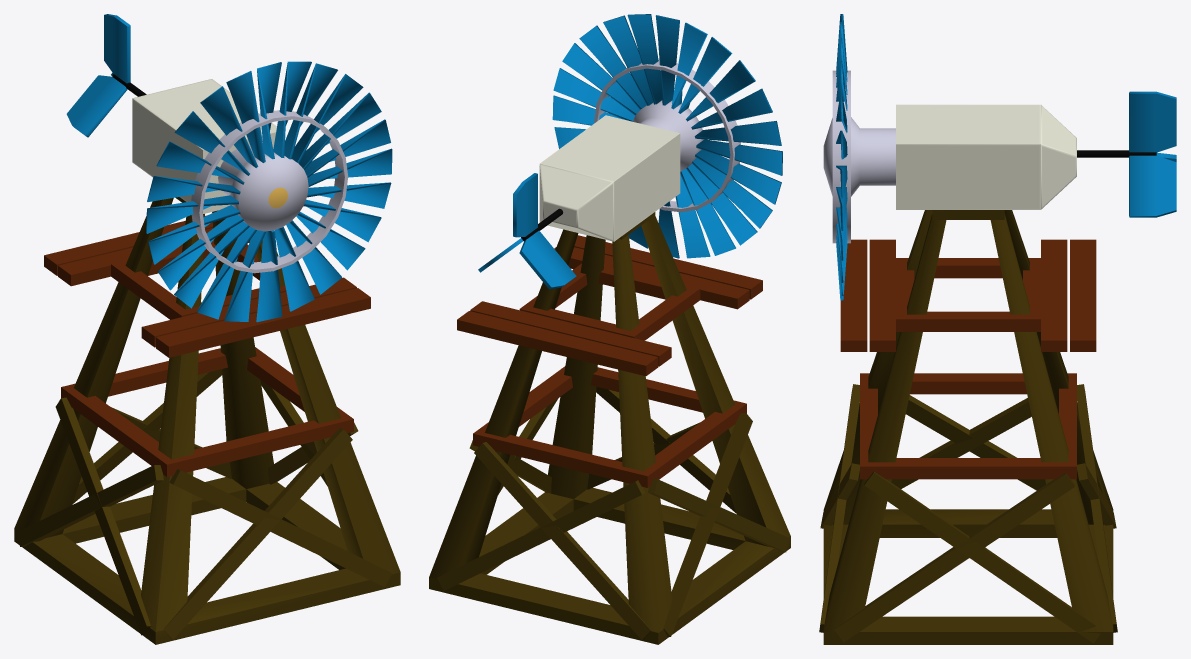
File: Windmill2.fbx
The picture shows the model from 3 angles, left to right: view 1: azimuth 30°, elevation 25°; view 2: azimuth 150°, elevation 25°; view 3: azimuth 270°, elevation 25°; orthographic projection. The views are drawn at different scales.
Parts seen in each view (by area): view 1: Windmill2:Base, Windmill2:Top, Windmill2:Base2; view 2: Windmill2:Base, Windmill2:Top, Windmill2:Base2; view 3: Windmill2:Base, Windmill2:Base2, Windmill2:Top.
Boxes of the visible parts, x1,y1,x2,y2 form: Windmill2:Base: [14, 197, 400, 644]; Windmill2:Top: [146, 61, 392, 322]; Windmill2:Base2: [66, 14, 276, 213]; Windmill2:Base: [429, 212, 790, 644]; Windmill2:Top: [552, 14, 782, 258]; Windmill2:Base2: [478, 115, 680, 289]; Windmill2:Base: [819, 210, 1117, 644]; Windmill2:Base2: [896, 91, 1176, 217]; Windmill2:Top: [823, 14, 895, 300].
Bounding box in the file's own units: 825 × 1694 × 988.
